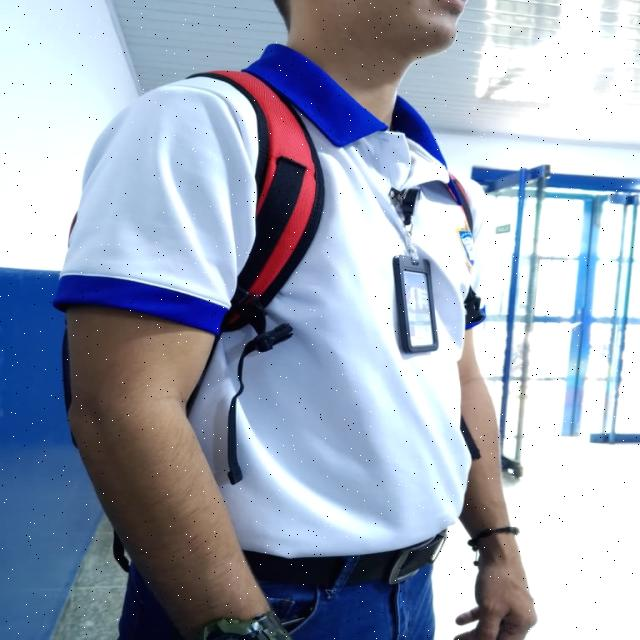carnet: (402, 270, 433, 346)
uniforme_superior: (54, 42, 487, 559)
